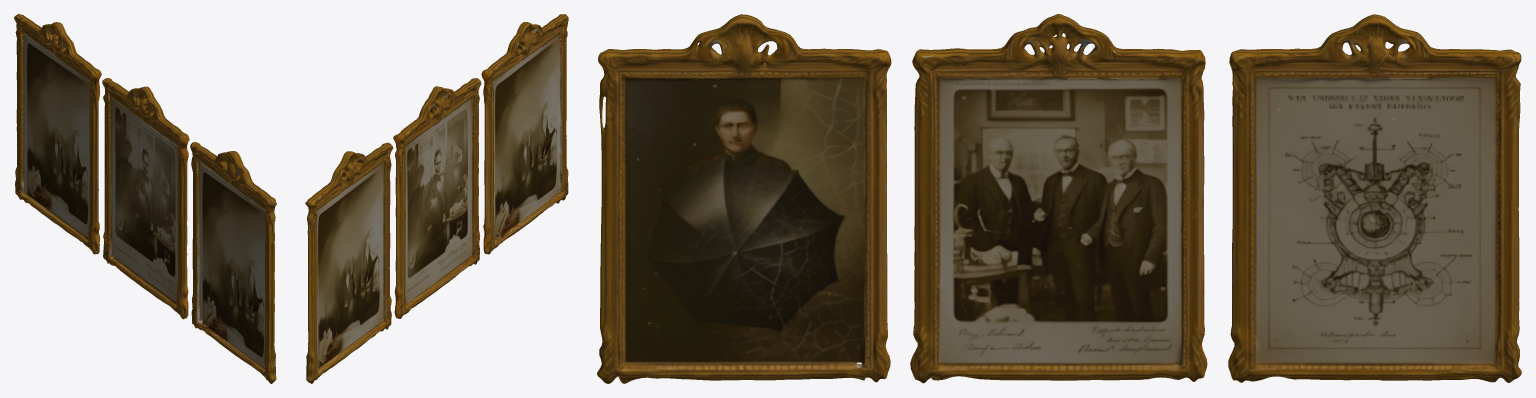
File: vintage+framed+photos+3d-456+model.fbx
The picture shows the model from 3 angles, left to right: view 1: azimuth 30°, elevation 25°; view 2: azimuth 150°, elevation 25°; view 3: azimuth 270°, elevation 25°; orthographic projection. The views are drawn at different scales.
Visible parts, largest first — view 1: tripo_node_0f78e88f; view 2: tripo_node_0f78e88f; view 3: tripo_node_0f78e88f.
Boxes of the visible parts, <box> form: tripo_node_0f78e88f: <box>14,14,276,383</box>; tripo_node_0f78e88f: <box>305,14,568,383</box>; tripo_node_0f78e88f: <box>597,14,1521,383</box>.
Bounding box in the file's own units: 0.0242 × 0.4392 × 0.9994.
Materials: 1 (1 with a texture image).
